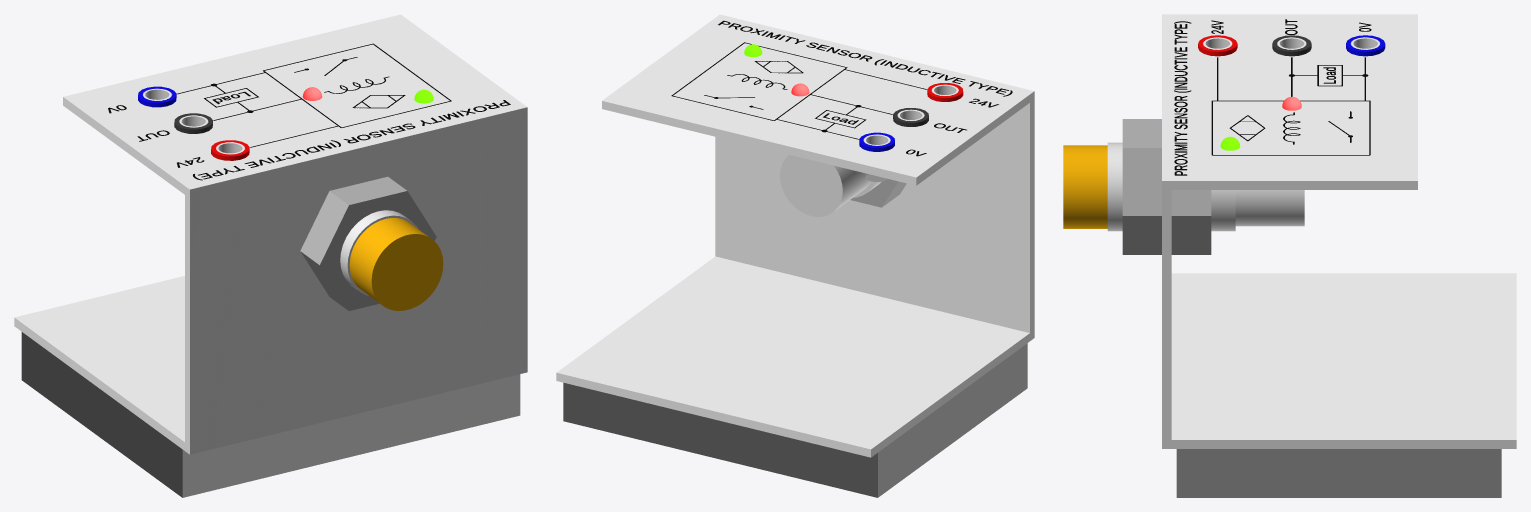
The model's file is inductive-sensor-pnp.glb.
The picture shows the model from 3 angles, left to right: view 1: azimuth 30°, elevation 25°; view 2: azimuth 150°, elevation 25°; view 3: azimuth 270°, elevation 25°; orthographic projection. The views are drawn at different scales.
Visible parts, largest first — view 1: InductiveBase__go1108__mesh5, InductiveBase__go1108__mesh0, InductiveBase__go1108__mesh2, InductiveBase__go1108__mesh4, Sticker__go1110__mesh0, InductiveBase__go1108__mesh1, InductiveBase__go1108__mesh7, InductiveBase__go1108__mesh6, InductiveBase__go1108__mesh3; view 2: InductiveBase__go1108__mesh5, InductiveBase__go1108__mesh0, InductiveBase__go1108__mesh1, Sticker__go1110__mesh0, InductiveBase__go1108__mesh4, InductiveBase__go1108__mesh7, InductiveBase__go1108__mesh6, InductiveBase__go1108__mesh3; view 3: InductiveBase__go1108__mesh5, InductiveBase__go1108__mesh0, InductiveBase__go1108__mesh4, InductiveBase__go1108__mesh1, InductiveBase__go1108__mesh2, Sticker__go1110__mesh0, InductiveBase__go1108__mesh3, InductiveBase__go1108__mesh6, InductiveBase__go1108__mesh7.
Part boxes in pixels (box(x1,y1,x2,y2)): InductiveBase__go1108__mesh5: box(14, 14, 527, 454); InductiveBase__go1108__mesh0: box(21, 332, 520, 497); InductiveBase__go1108__mesh2: box(349, 218, 443, 310); InductiveBase__go1108__mesh4: box(300, 176, 436, 310); Sticker__go1110__mesh0: box(108, 43, 510, 180); InductiveBase__go1108__mesh1: box(340, 210, 418, 295); InductiveBase__go1108__mesh7: box(138, 86, 176, 107); InductiveBase__go1108__mesh6: box(211, 140, 249, 160); InductiveBase__go1108__mesh3: box(174, 113, 212, 133); InductiveBase__go1108__mesh5: box(556, 14, 1034, 457); InductiveBase__go1108__mesh0: box(563, 343, 1027, 497); InductiveBase__go1108__mesh1: box(780, 154, 881, 216); Sticker__go1110__mesh0: box(671, 20, 1012, 156); InductiveBase__go1108__mesh4: box(850, 179, 906, 207); InductiveBase__go1108__mesh7: box(859, 132, 894, 181); InductiveBase__go1108__mesh6: box(927, 83, 963, 101); InductiveBase__go1108__mesh3: box(893, 108, 928, 126); InductiveBase__go1108__mesh5: box(1162, 14, 1516, 448); InductiveBase__go1108__mesh0: box(1176, 449, 1501, 497); InductiveBase__go1108__mesh4: box(1122, 119, 1211, 254); InductiveBase__go1108__mesh1: box(1107, 142, 1304, 231); InductiveBase__go1108__mesh2: box(1063, 145, 1107, 228); Sticker__go1110__mesh0: box(1174, 19, 1371, 175); InductiveBase__go1108__mesh3: box(1272, 35, 1311, 56); InductiveBase__go1108__mesh6: box(1198, 35, 1237, 56); InductiveBase__go1108__mesh7: box(1346, 35, 1385, 56).
Bounding box in the file's own units: 0.08 × 0.073 × 0.092.
Materials: 11 (5 with a texture image).
